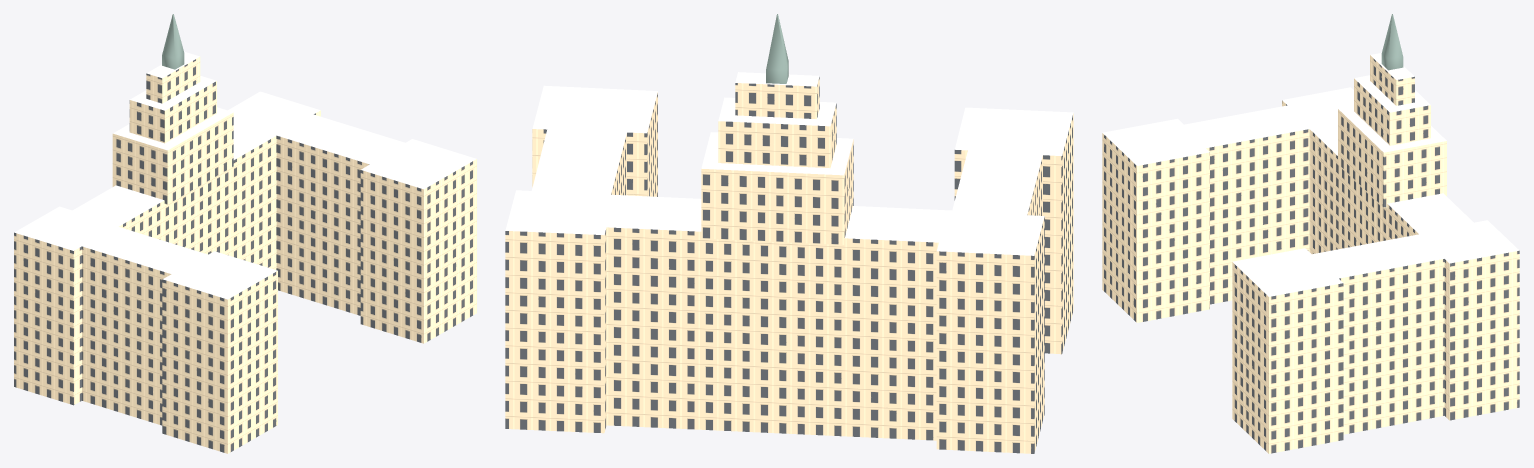
Rendered from landmark-government-house.glb.
3 views of the same model, side by side, from view 1: azimuth 30°, elevation 25°; view 2: azimuth 150°, elevation 25°; view 3: azimuth 270°, elevation 25° (orthographic). The views are drawn at different scales.
Parts seen in each view (by area): view 1: government-house; view 2: government-house; view 3: government-house.
Part boxes in pixels (x1,y1,x2,y2): government-house: [14, 14, 476, 453]; government-house: [505, 14, 1073, 453]; government-house: [1102, 14, 1519, 453].
Bounding box in the file's own units: 122 × 86.59 × 103.
3 materials, 1 textured.
